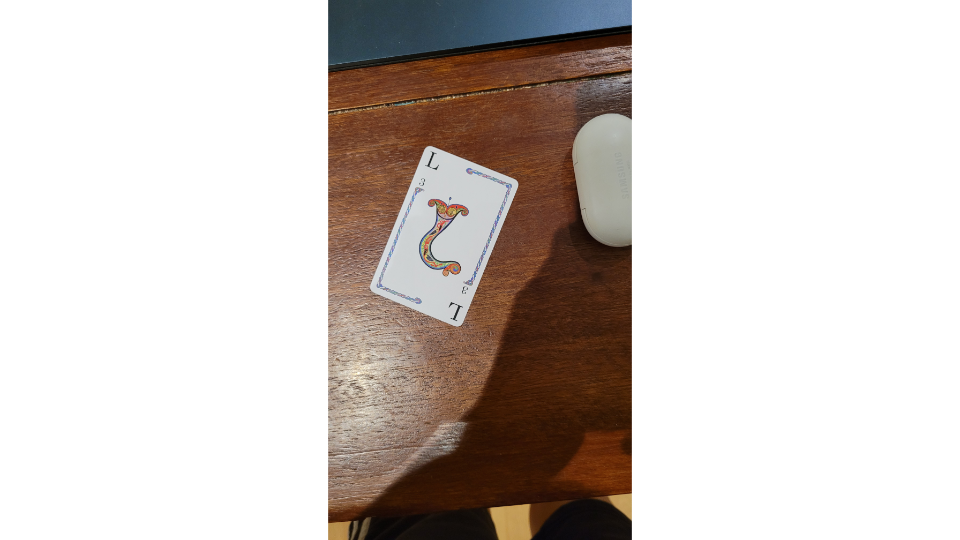L: (367, 142, 523, 329)
